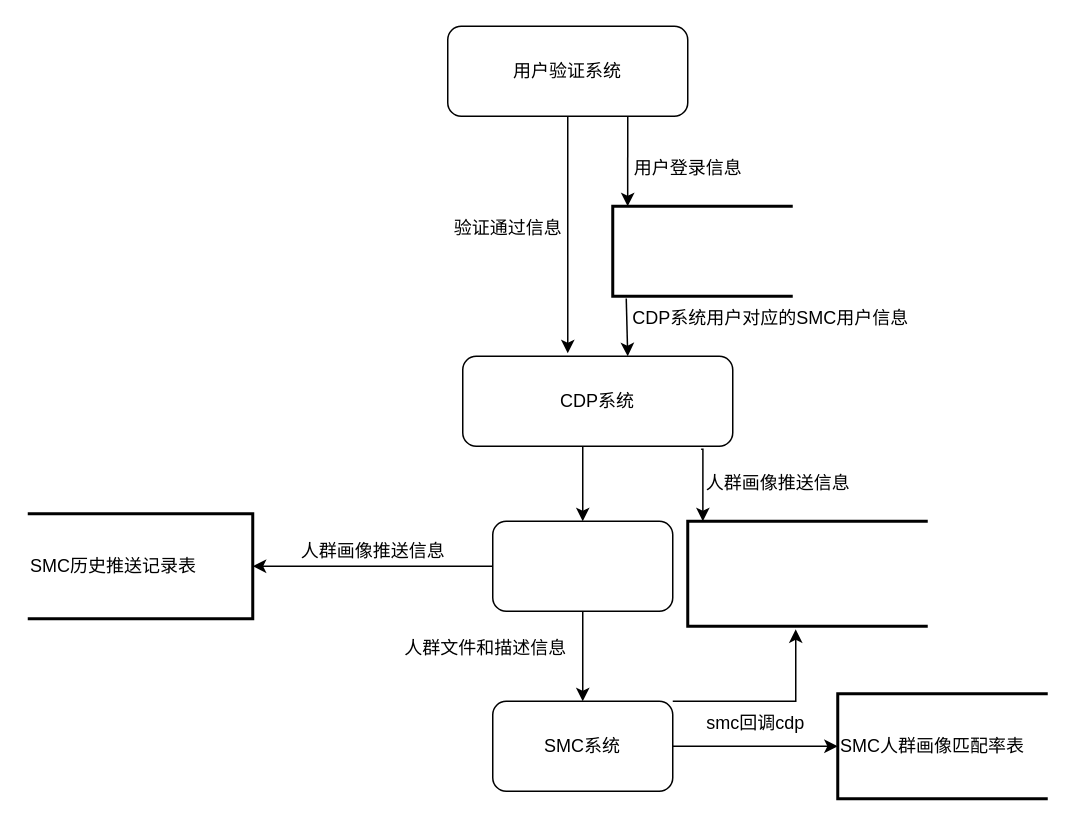
The diagram is 1074 pixels wide and 827 high, and some of its shapes have lost their labels. Here are the shapes that lost their labels. From the top down, the centre of each, then its label:
At [702,250]: "SMC用户权限表".
At [582,565]: "SMC人群画像推送".
At [807,573]: "SMC人群表和SMC画像表".
